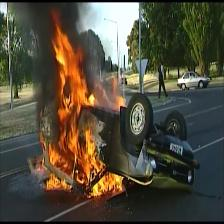fire: (40, 0, 142, 204)
smoke: (9, 3, 60, 146)
